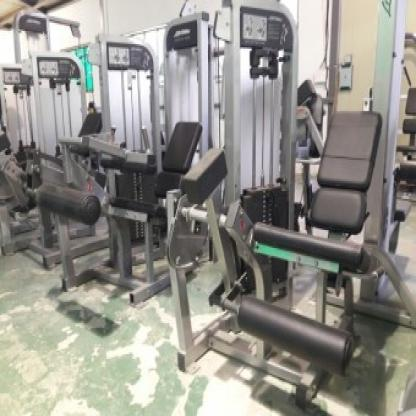leg extension: (160, 0, 399, 416)
